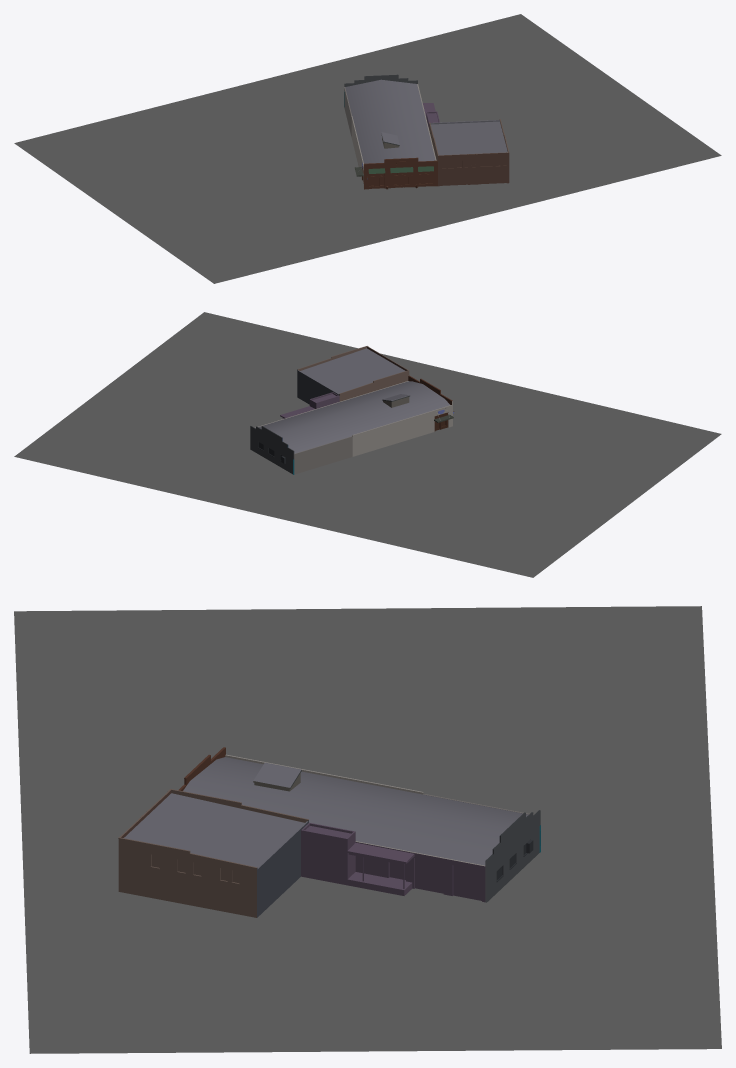
File: 215-east-main-street.glb
3 renders of one model, top to bottom at view 1: azimuth 30°, elevation 25°; view 2: azimuth 150°, elevation 25°; view 3: azimuth 270°, elevation 25°, orthographic. The views are drawn at different scales.
Parts seen in each view (by area): view 1: LOD0; view 2: LOD0; view 3: LOD0.
Part boxes in pixels (box(x1,y1,x2,y2)): LOD0: box(14, 14, 721, 283); LOD0: box(14, 312, 721, 577); LOD0: box(14, 606, 721, 1053).
Size of what is drawn, in the model's own units: 130 by 8.04 by 87.13.
Materials: 2 (2 with a texture image).
